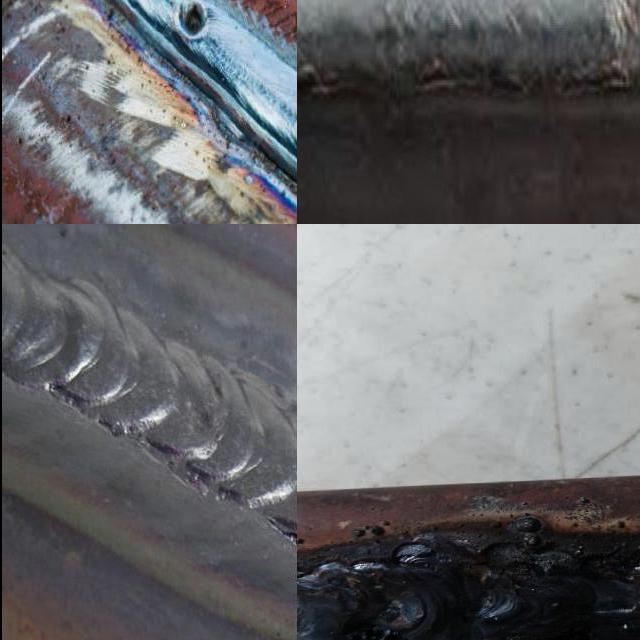defect: (176, 1, 207, 43), (339, 626, 413, 640)
